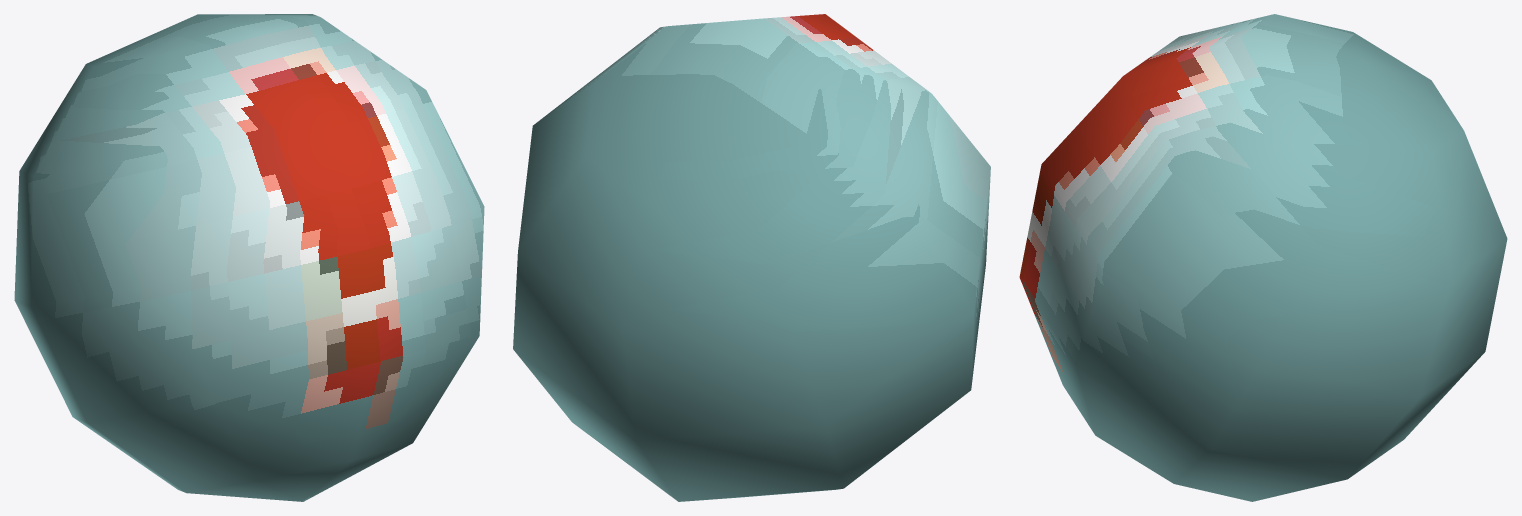
The model's file is fg_seedpitfall.dae.
3 renders of one model, left to right at view 1: azimuth 30°, elevation 25°; view 2: azimuth 150°, elevation 25°; view 3: azimuth 270°, elevation 25°, orthographic. The views are drawn at different scales.
Visible parts, largest first — view 1: fg_seedpitfall; view 2: fg_seedpitfall; view 3: fg_seedpitfall.
Part boxes in pixels (<box>): fg_seedpitfall: <box>14,14,484,501</box>; fg_seedpitfall: <box>513,14,990,501</box>; fg_seedpitfall: <box>1019,14,1507,501</box>.
Size of the model in its own units: 12.97 by 12.92 by 12.92.
1 material, 1 textured.
